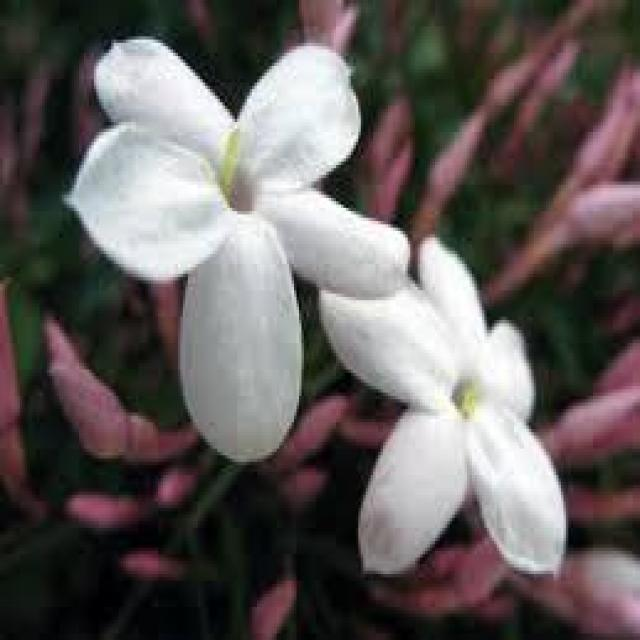organic waste: (77, 13, 405, 465), (311, 237, 576, 594)
